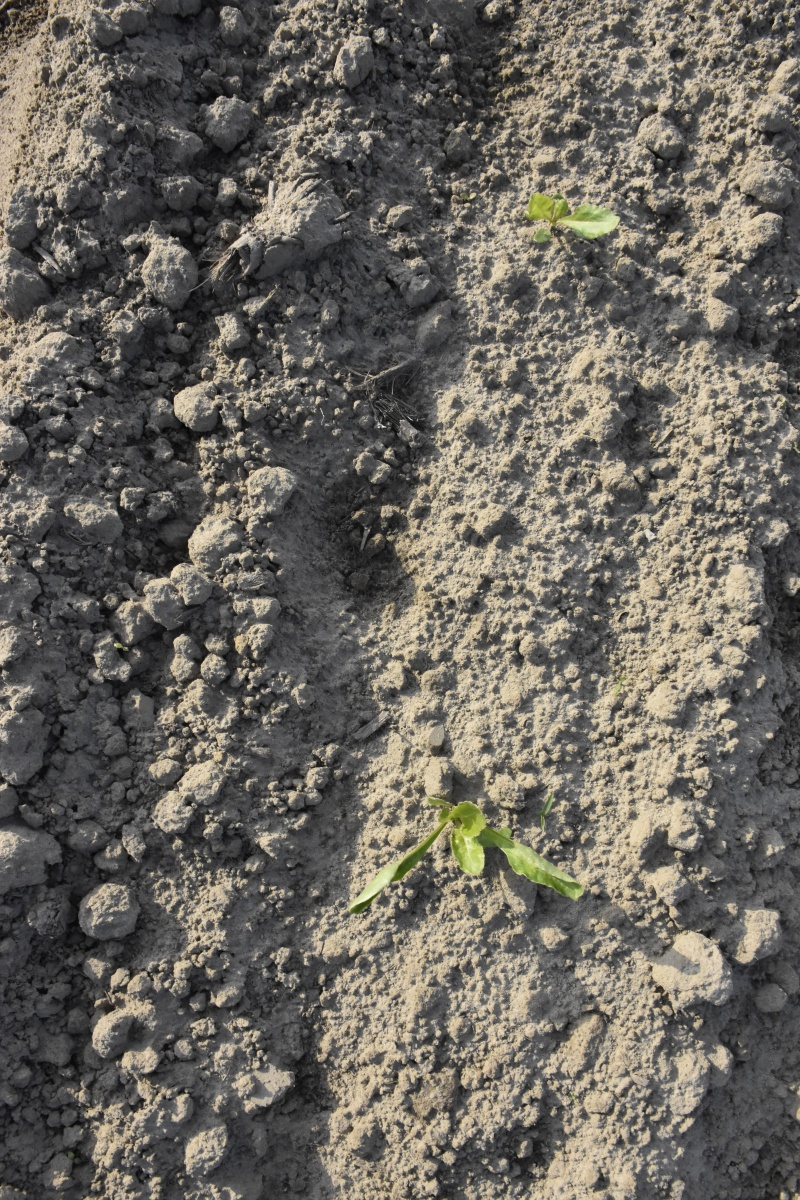sugar beet: (340, 795, 581, 906), (514, 186, 621, 269)
